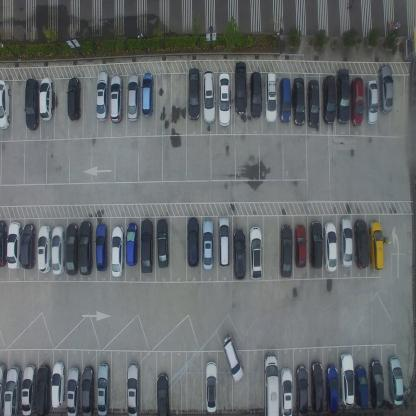car: (221, 334, 245, 384), (263, 352, 280, 415), (338, 352, 354, 410), (4, 364, 21, 416), (353, 219, 370, 269), (388, 354, 404, 406), (378, 64, 394, 116), (201, 70, 216, 124), (369, 219, 384, 272), (24, 78, 39, 131), (79, 220, 93, 276), (140, 218, 154, 274), (369, 358, 384, 410), (21, 363, 36, 415), (233, 61, 247, 116), (217, 73, 231, 128), (248, 225, 262, 280), (126, 361, 140, 416), (65, 222, 79, 277), (310, 360, 324, 414), (337, 68, 350, 126), (96, 362, 110, 415), (66, 76, 82, 122), (37, 224, 52, 273), (6, 221, 21, 270), (186, 216, 200, 268), (323, 220, 337, 272), (81, 364, 95, 416), (295, 364, 309, 416), (36, 364, 50, 416), (279, 224, 292, 279), (339, 216, 353, 267), (325, 363, 339, 414), (51, 359, 65, 410), (232, 228, 245, 282), (309, 220, 323, 270), (322, 74, 336, 124), (350, 78, 364, 128), (66, 366, 80, 415), (21, 221, 35, 270), (156, 218, 169, 270), (201, 218, 214, 270), (96, 70, 109, 122), (111, 225, 124, 277), (264, 72, 277, 124), (217, 216, 230, 267), (110, 74, 123, 125), (52, 224, 65, 275), (292, 76, 305, 126), (39, 75, 53, 121), (95, 223, 108, 272), (188, 67, 200, 120), (205, 361, 217, 413), (280, 367, 293, 415), (307, 78, 319, 130), (155, 372, 169, 416), (249, 72, 262, 119), (294, 223, 307, 270), (278, 77, 291, 124), (127, 72, 139, 122), (365, 79, 378, 124), (355, 365, 368, 409), (0, 78, 11, 130), (141, 71, 153, 117), (126, 221, 138, 267), (0, 360, 7, 416), (0, 219, 7, 269)
